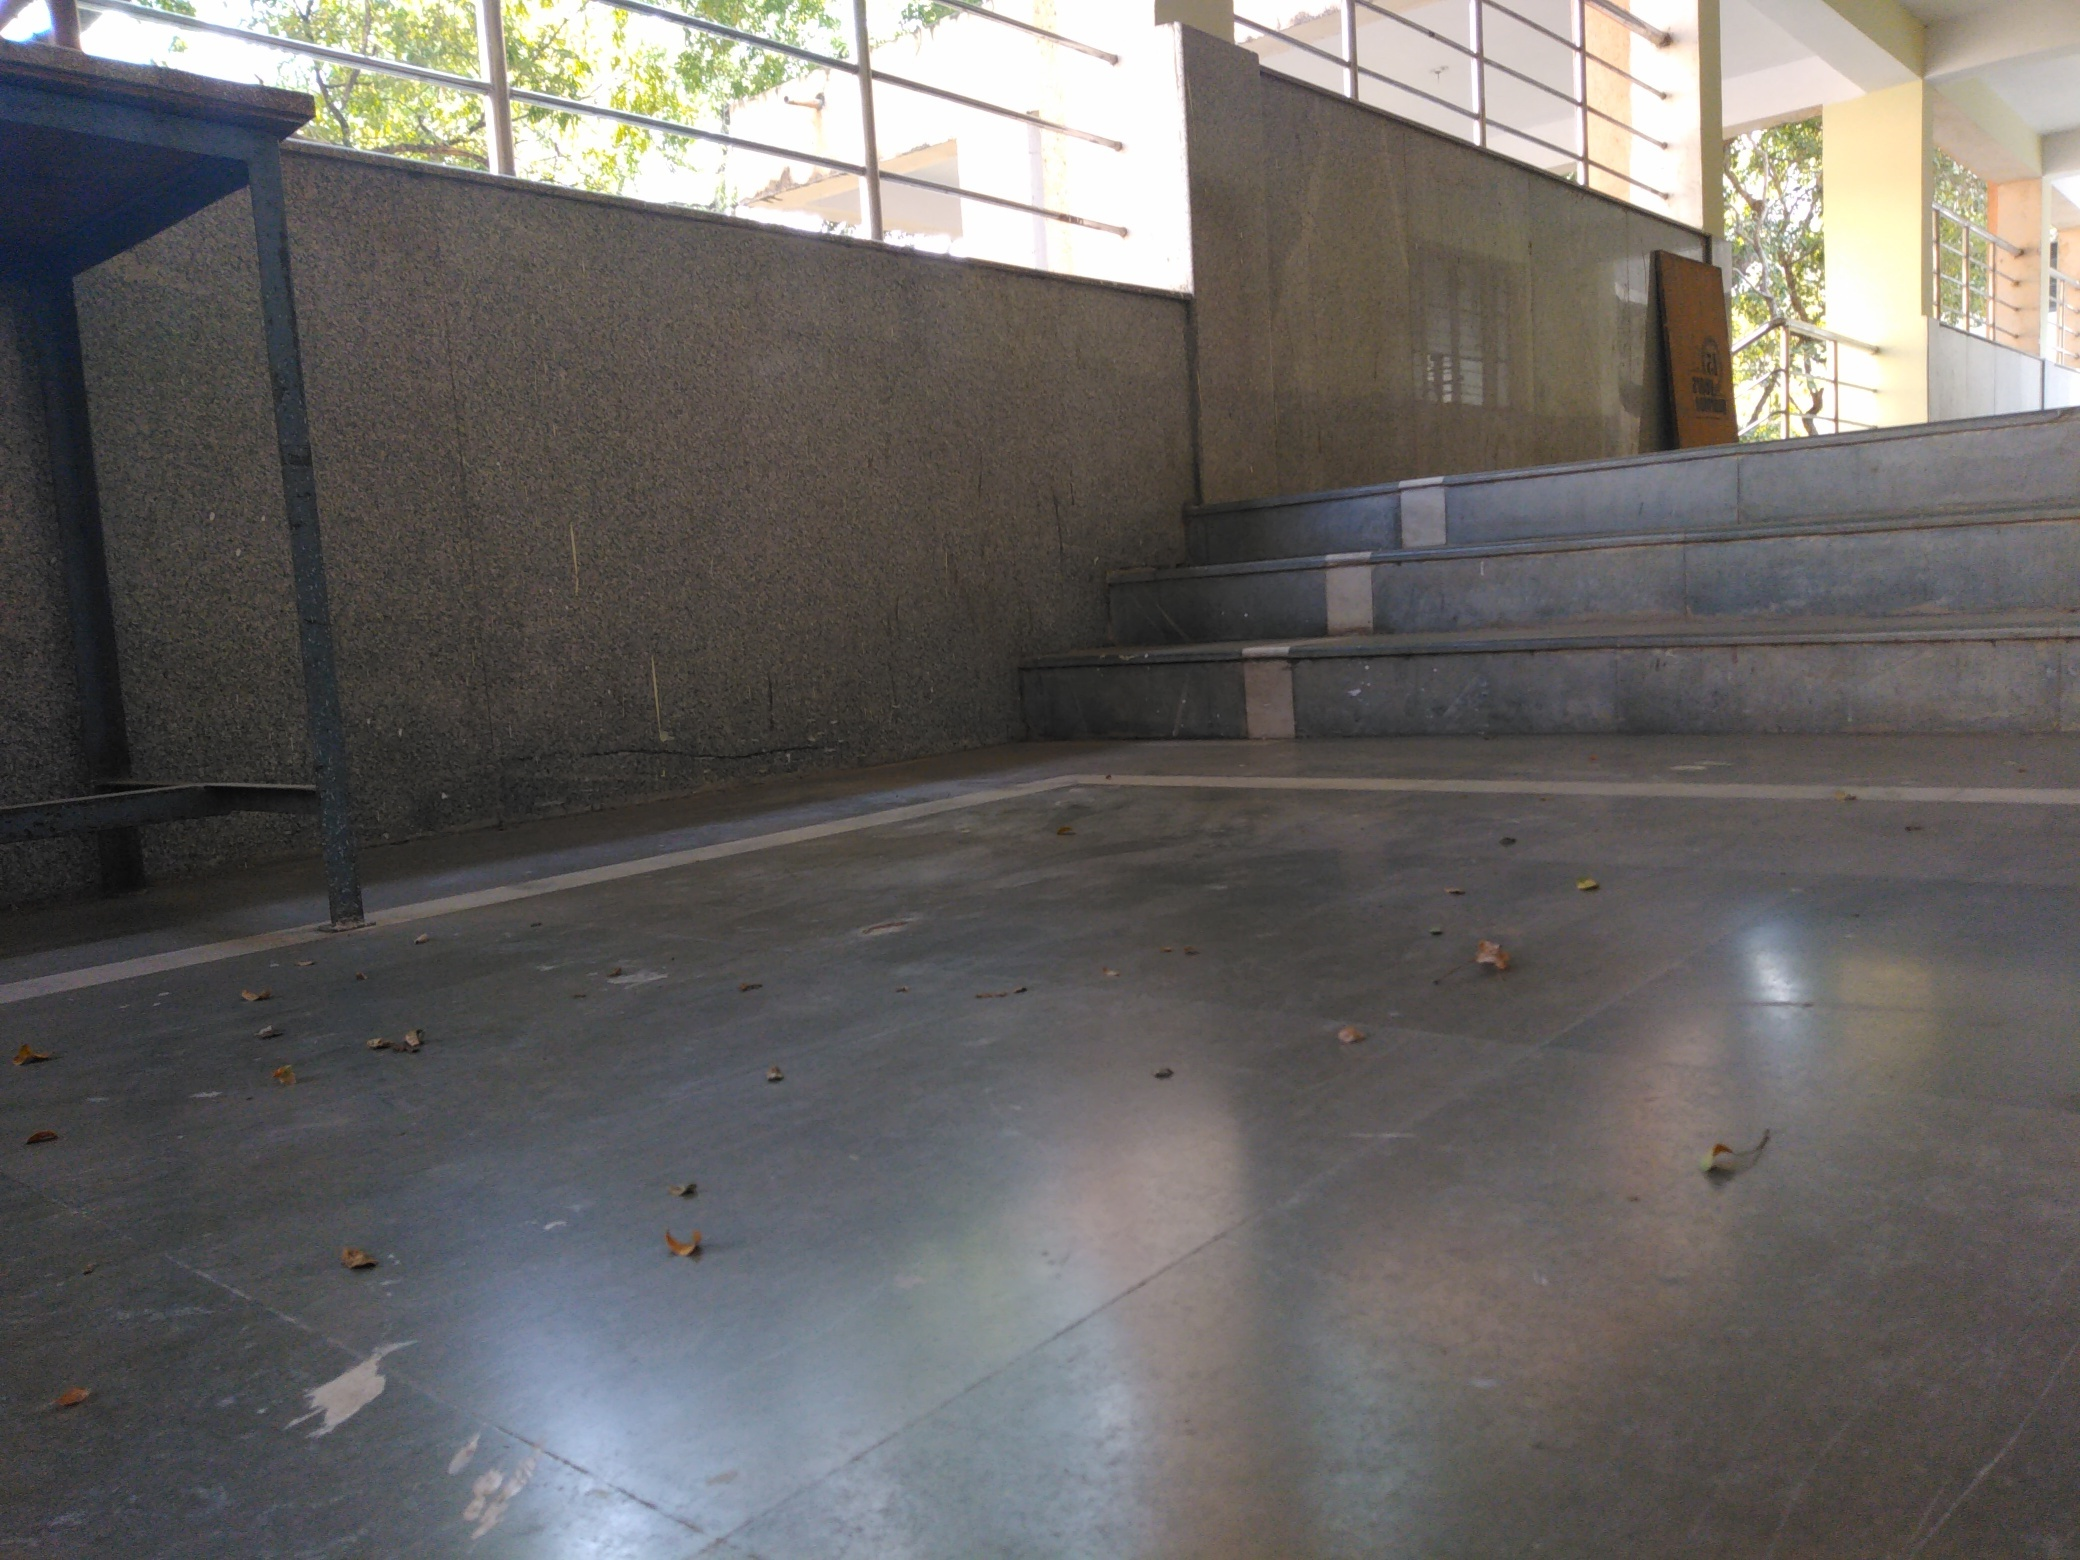stairs_up: (1063, 374, 2049, 731)
